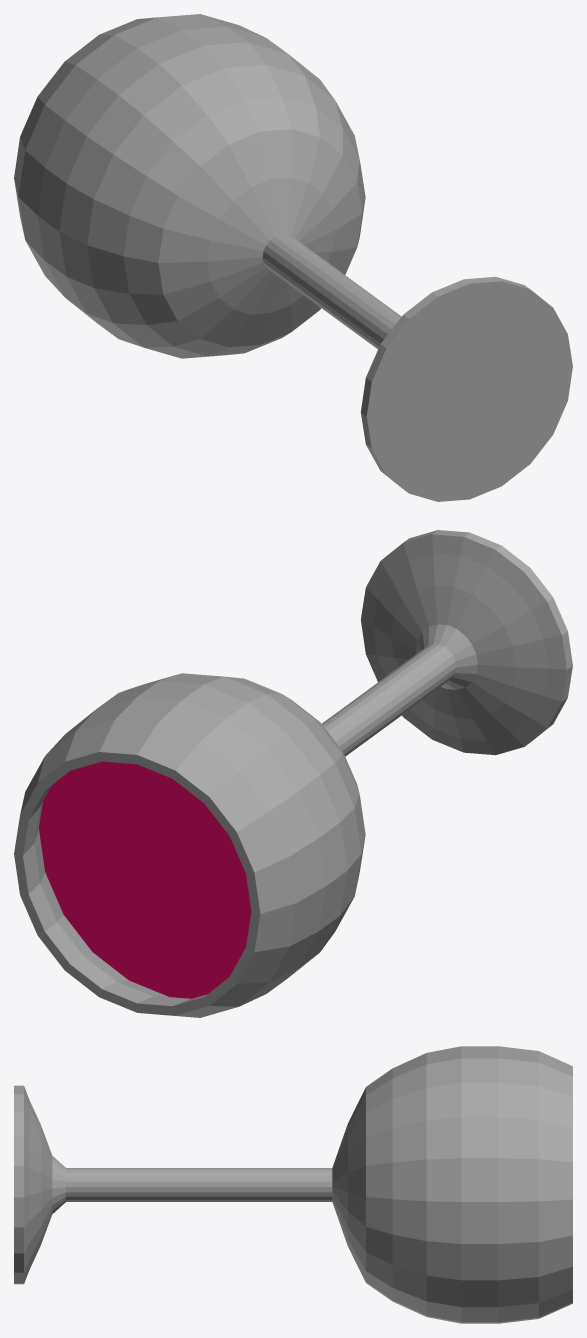
The model's file is wine_glass.fbx.
3 renders of one model, top to bottom at view 1: azimuth 30°, elevation 25°; view 2: azimuth 150°, elevation 25°; view 3: azimuth 270°, elevation 25°, orthographic. The views are drawn at different scales.
Parts seen in each view (by area): view 1: Cylinder; view 2: Cylinder; view 3: Cylinder.
Part boxes in pixels (x1=…): Cylinder: x1=14, y1=14, x2=572, y2=501; Cylinder: x1=14, y1=530, x2=572, y2=1017; Cylinder: x1=14, y1=1046, x2=572, y2=1323.
Bounding box in the file's own units: 279 × 279 × 559.
